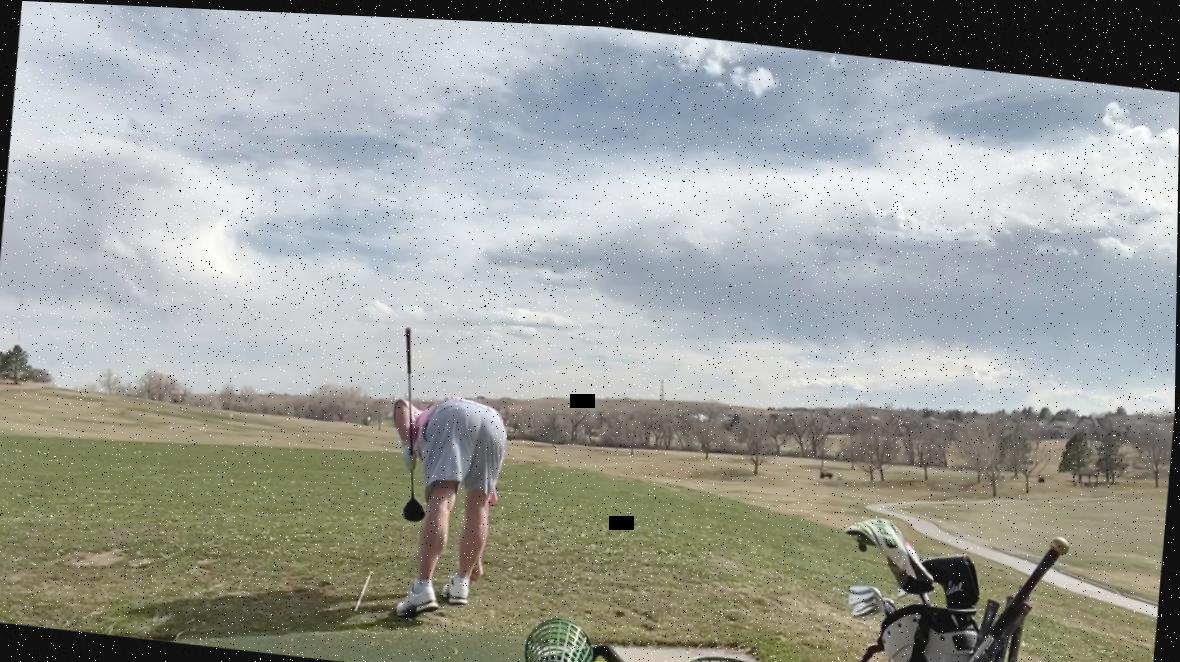ClubHead: (396, 484, 433, 528)
